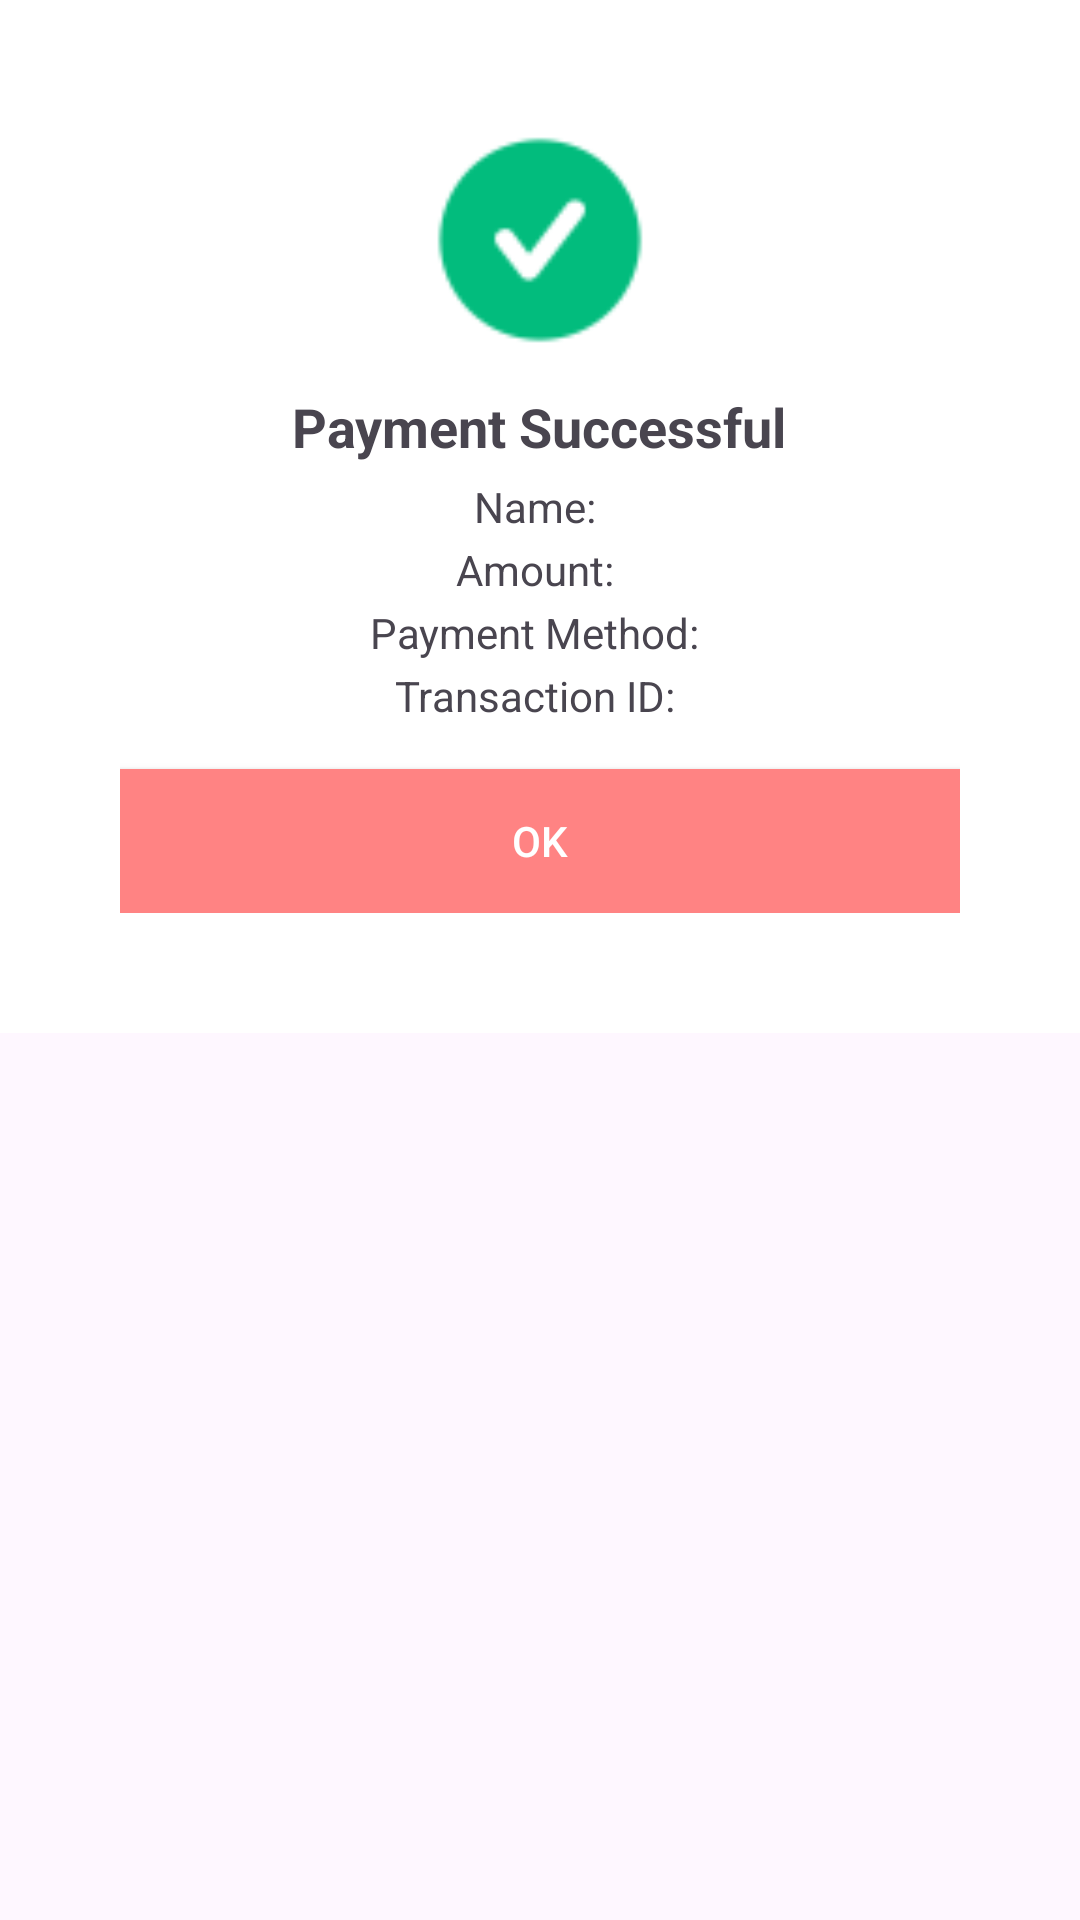

Where icons sit on this 1080×1920 app screen, as bbox(x1, y1, x2, y2):
done: bbox(437, 137, 643, 343)
